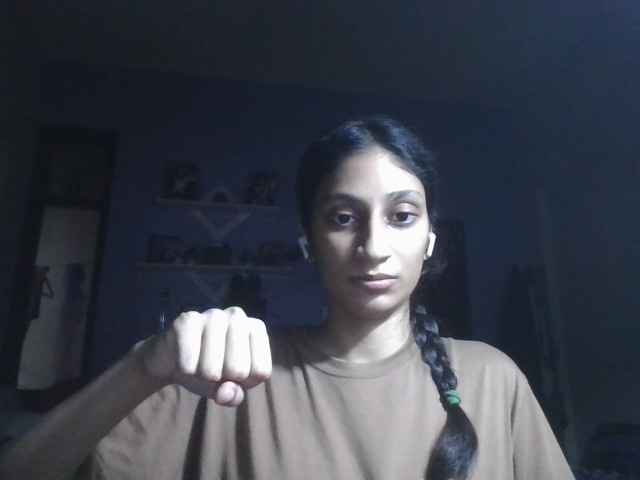yes: (152, 305, 275, 404)
